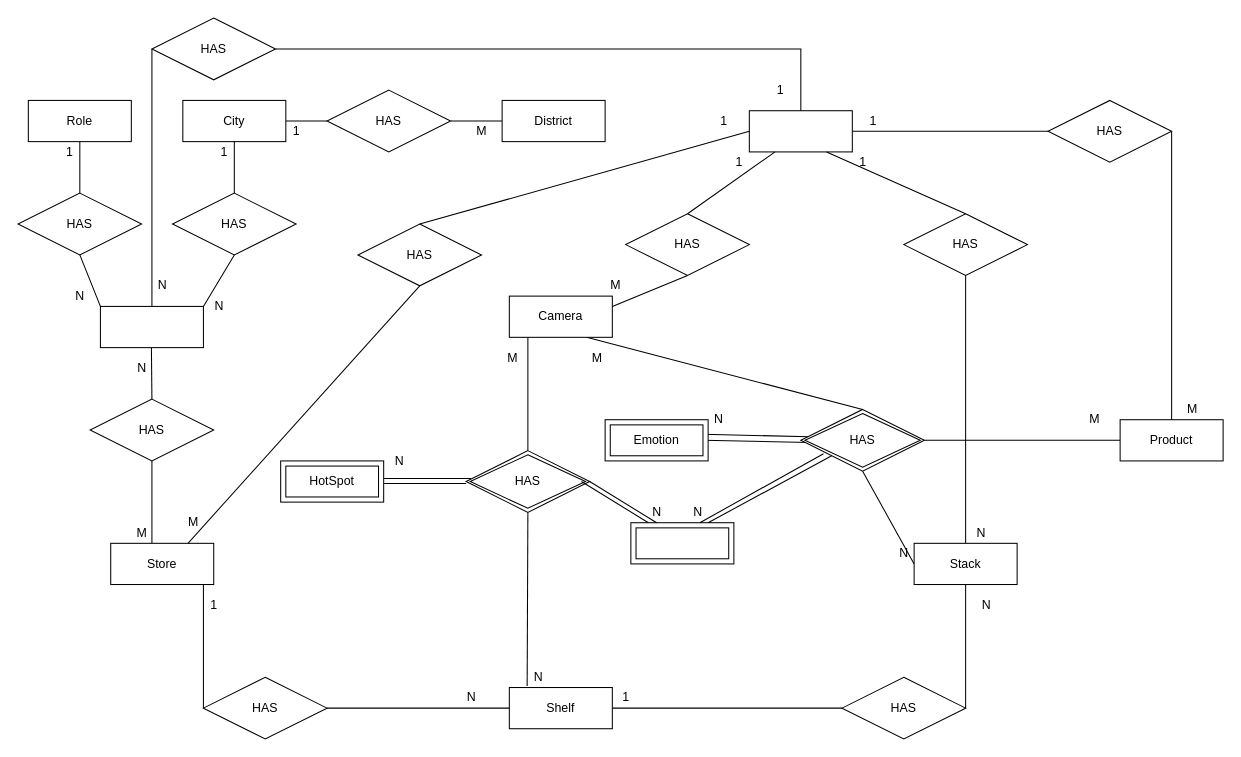
Image size: 1241x757. Some labels were removed from this diagram. The shapes that lost their labels are listed below. From the top down, each one's centre as x and y in pixels, then its label:
pixel 800 131: Status
pixel 151 326: User
pixel 682 543: Video
